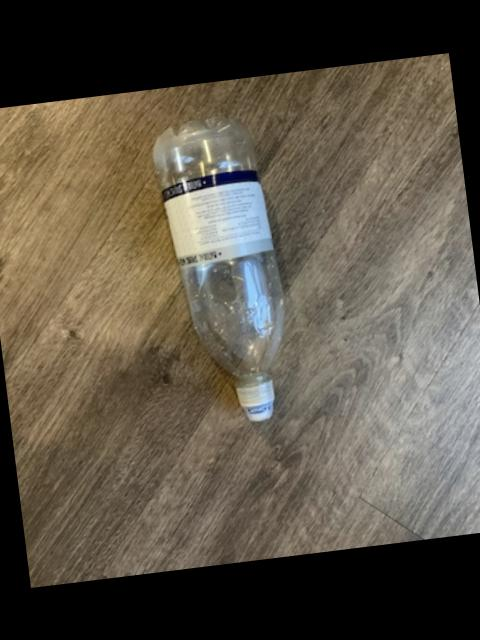plastic: (154, 115, 285, 419)
